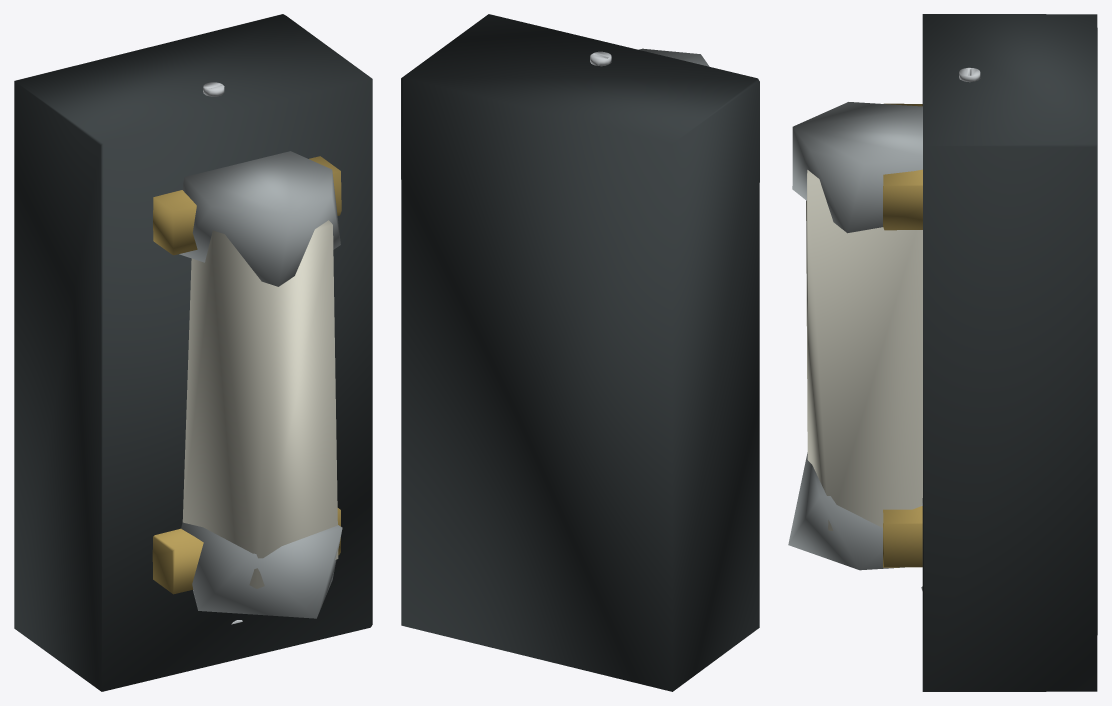
Rendered from fuse_dc-fuse.low.glb.
The picture shows the model from 3 angles, left to right: view 1: azimuth 30°, elevation 25°; view 2: azimuth 150°, elevation 25°; view 3: azimuth 270°, elevation 25°; orthographic projection.
Visible parts, largest first — view 1: node-4, node-5, node-3 · Original material.002, node-3 · Original material.003; view 2: node-4; view 3: node-4, node-5, node-3 · Original material.002, node-3 · Original material.003.
Part boxes in pixels (x1,y1,x2,y2): node-4: (14,14,372,691); node-5: (182,220,338,588); node-3 · Original material.002: (179,151,342,618); node-3 · Original material.003: (152,156,341,594); node-4: (401,14,759,691); node-4: (922,14,1097,691); node-5: (806,170,922,530); node-3 · Original material.002: (788,102,922,570); node-3 · Original material.003: (883,103,922,567).
Bounding box in the file's own units: 0.5352 × 1.05 × 0.5286.
